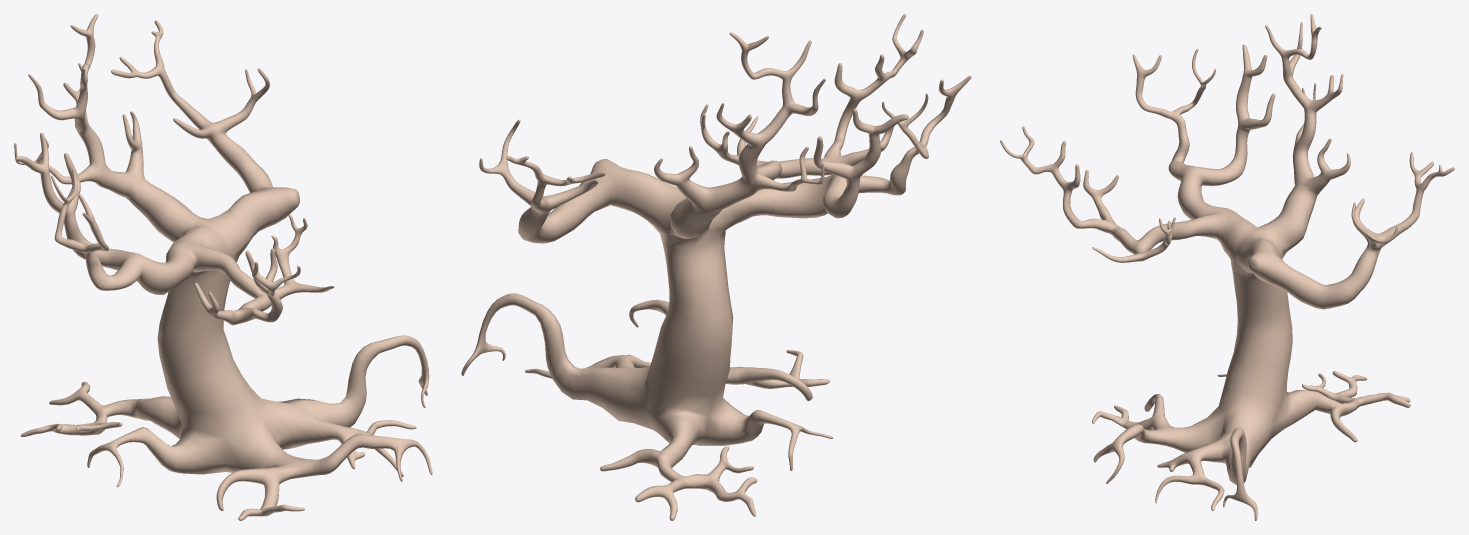
Rendered from wala_larbre_fraude.fbx.
3 views of the same model, side by side, from view 1: azimuth 30°, elevation 25°; view 2: azimuth 150°, elevation 25°; view 3: azimuth 270°, elevation 25° (orthographic). The views are drawn at different scales.
Parts seen in each view (by area): view 1: LeaflessTree; view 2: LeaflessTree; view 3: LeaflessTree.
Boxes of the visible parts, bbox=[...] form: LeaflessTree: bbox=[14, 14, 432, 520]; LeaflessTree: bbox=[461, 14, 971, 520]; LeaflessTree: bbox=[1000, 14, 1454, 520].
Size of the model in its own units: 498 by 506 by 539.
